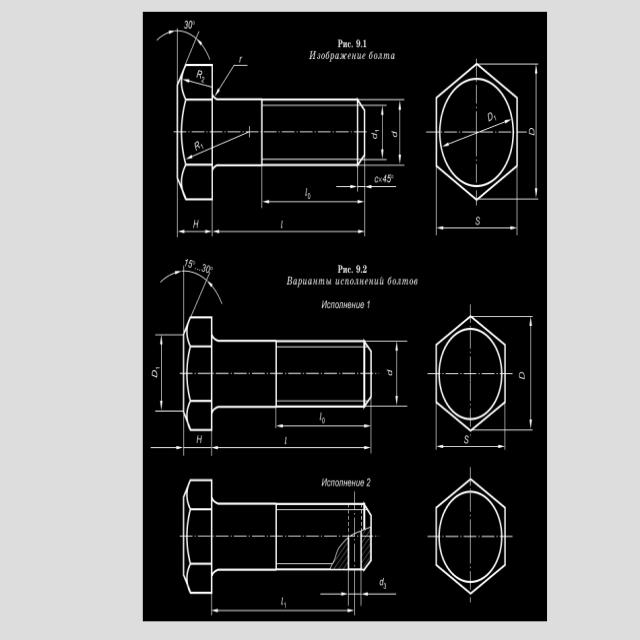marking_line: (213, 445, 370, 452), (213, 228, 364, 235), (277, 421, 370, 430), (213, 608, 354, 613), (533, 66, 537, 198), (264, 199, 364, 204), (529, 317, 533, 428), (437, 225, 515, 230), (395, 344, 401, 405), (398, 104, 404, 162), (159, 336, 163, 408), (437, 445, 504, 449), (362, 591, 397, 598), (149, 445, 182, 452), (180, 230, 211, 237), (367, 183, 397, 190), (380, 107, 384, 158), (320, 591, 347, 597), (336, 184, 357, 189)
numeric: (356, 260, 370, 275), (183, 257, 193, 270), (183, 17, 192, 31), (201, 261, 210, 275), (365, 478, 373, 490), (382, 174, 391, 183)
special_symbol: (161, 269, 226, 315), (159, 31, 214, 62), (214, 64, 252, 97), (183, 77, 211, 90)
